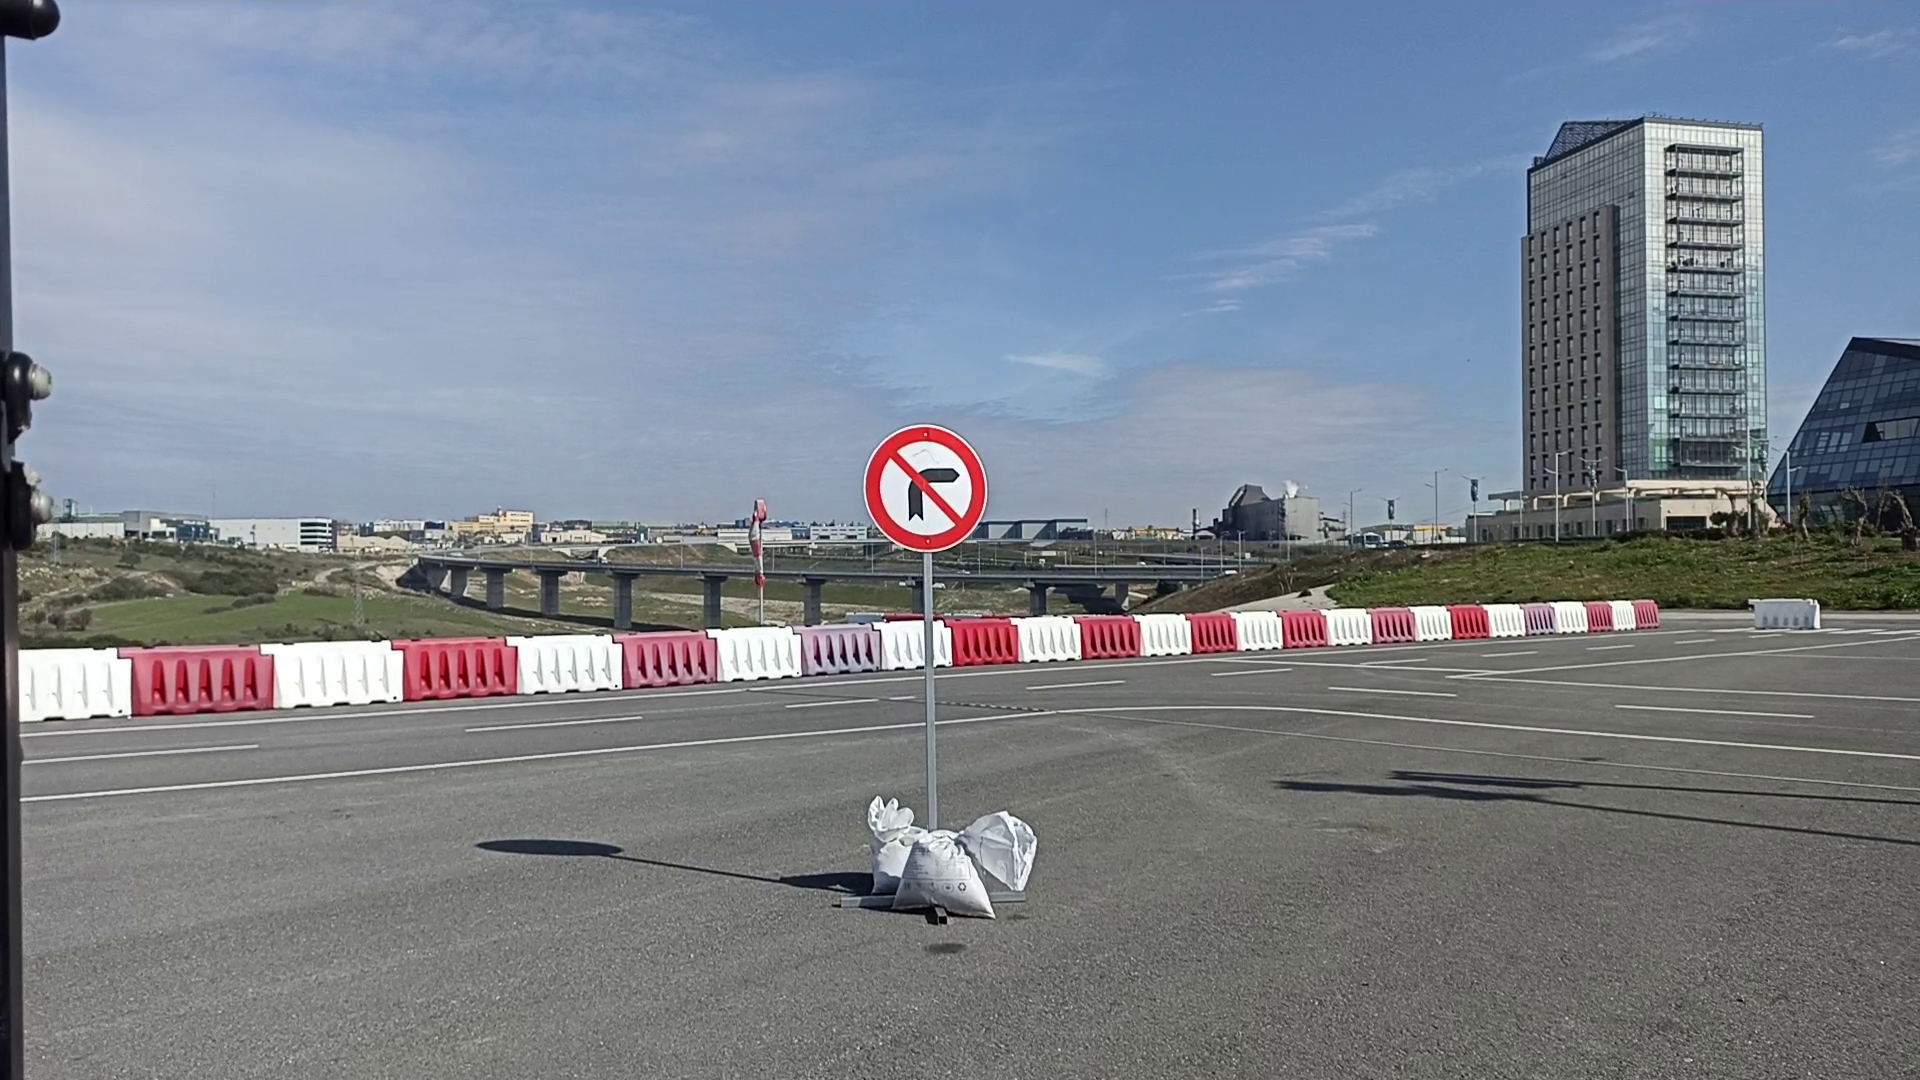noleftturn: (861, 422, 993, 554)
